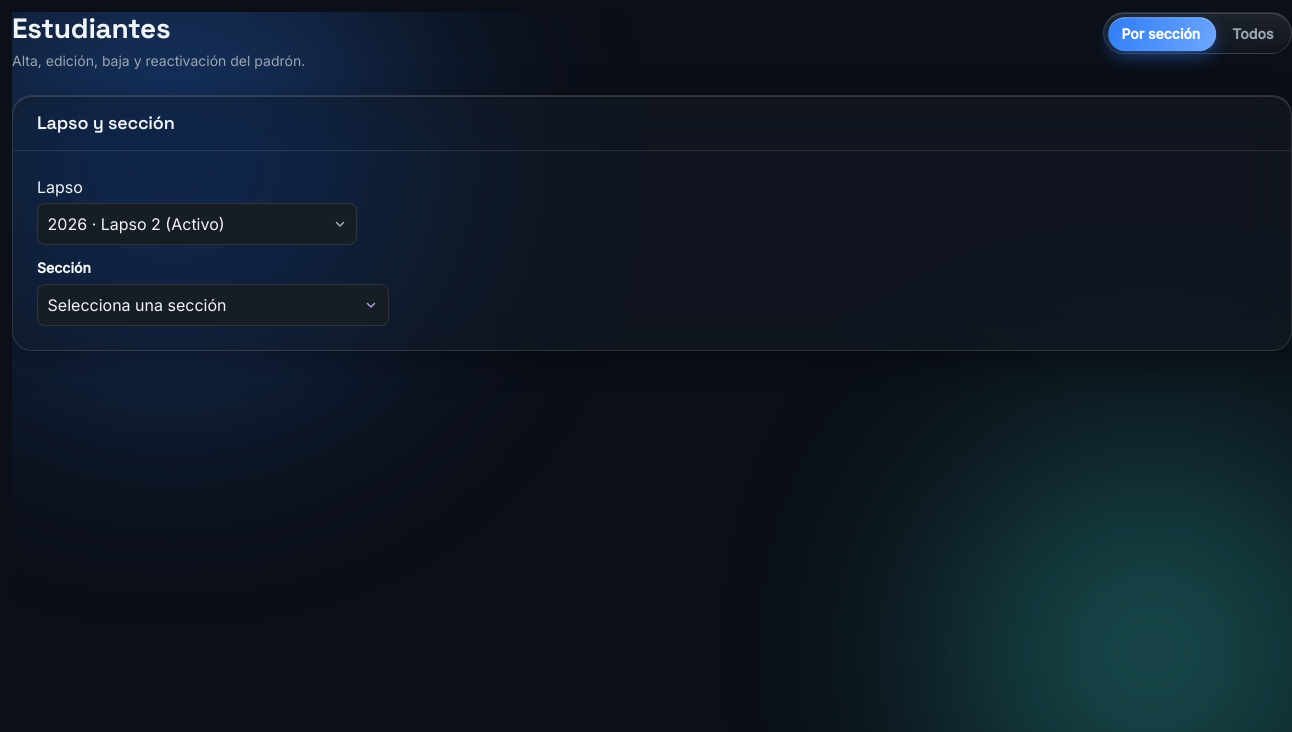
Test case: EstudiantesPage › muestra el padrón global con el rótulo de sección al pasar a Todos
The width and height of the screenshot is (1292, 732).
Click the button "Todos" at (1253, 33), box [1218,16,1288,50]
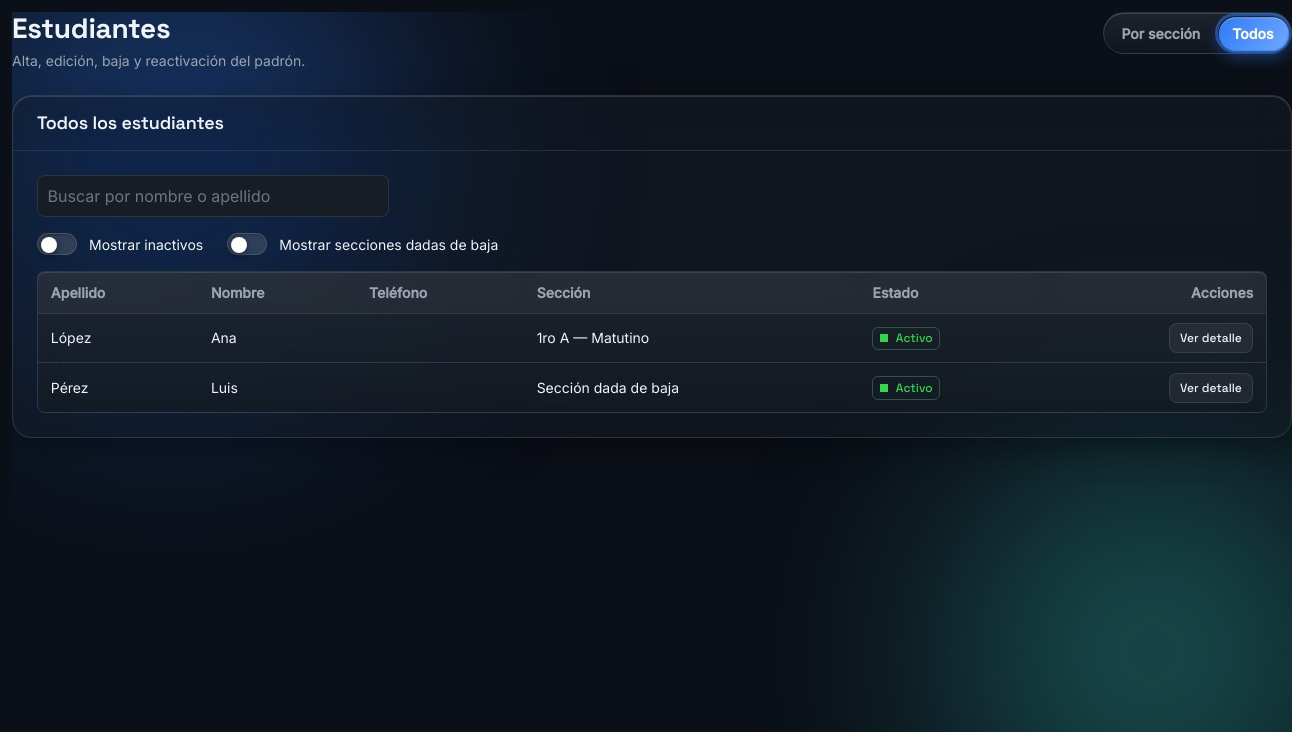
Check: the text "Ana" is shown, box [198,313,356,363]
Check: the text "1ro A — Matutino" is shown, box [524,313,860,363]
Check: the text "Sección dada de baja" is shown, box [524,363,860,412]
